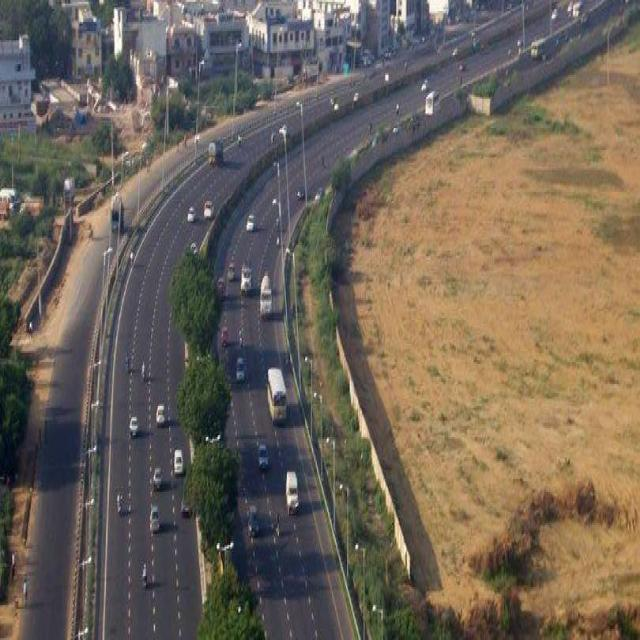car: (262, 362, 290, 431), (256, 266, 275, 324), (284, 470, 300, 523), (236, 252, 254, 298), (422, 79, 441, 117), (241, 201, 256, 244), (169, 442, 186, 478), (149, 461, 165, 497), (205, 133, 222, 166), (149, 510, 165, 542), (126, 415, 142, 445), (153, 400, 169, 428), (202, 195, 218, 222), (184, 192, 197, 224)
